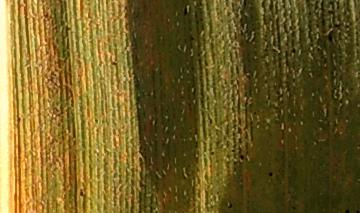tarspot: (324, 26, 337, 46), (74, 185, 89, 200), (179, 2, 192, 18), (286, 45, 300, 56), (108, 58, 119, 71), (265, 166, 275, 179), (223, 198, 233, 209), (186, 30, 195, 42), (237, 151, 246, 162)
